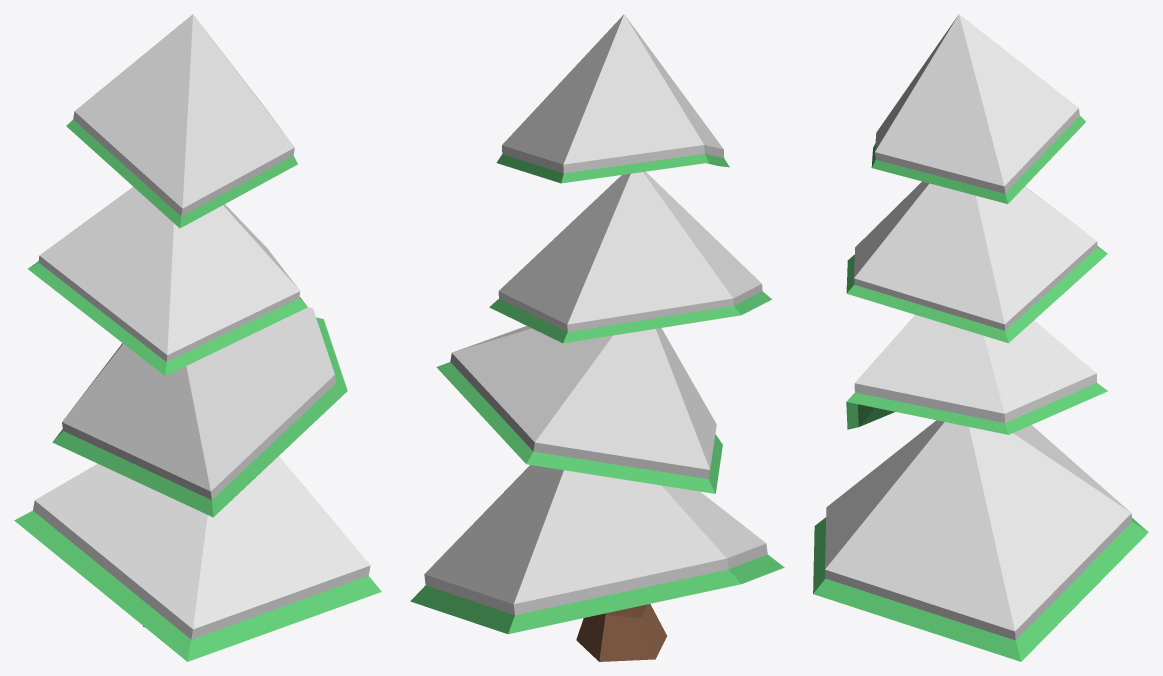
File: fir_tree_snow.fbx
3 renders of one model, left to right at view 1: azimuth 30°, elevation 25°; view 2: azimuth 150°, elevation 25°; view 3: azimuth 270°, elevation 25°, orthographic. The views are drawn at different scales.
Visible parts, largest first — view 1: fir; view 2: fir; view 3: fir.
Part boxes in pixels (x1=…): fir: x1=14, y1=14, x2=381, y2=661; fir: x1=410, y1=14, x2=784, y2=661; fir: x1=813, y1=14, x2=1148, y2=661.
Size of the model in its own units: 328 by 594 by 309.
